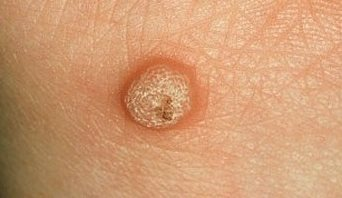Warts: (115, 48, 203, 135)
